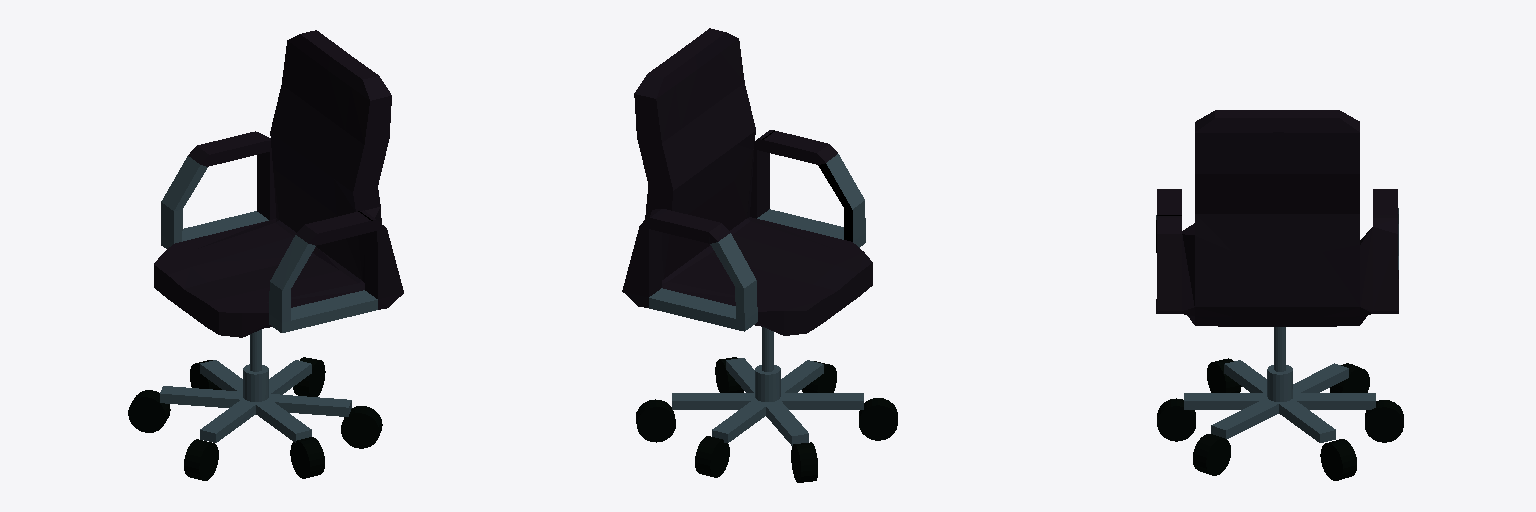
Rendered from Additive_Chair_Mesh_1.obj.
The picture shows the model from 3 angles: view 1: azimuth 30°, elevation 25°; view 2: azimuth 150°, elevation 25°; view 3: azimuth 270°, elevation 25°; orthographic projection.
Visible parts, largest first — view 1: pCylinder8 polySurface8, polySurface15, pCylinder8 polySurface4, pCylinder8 polySurface1, polySurface3 pCylinder8, pCylinder8 polySurface7, pCylinder8 polySurface5; view 2: pCylinder8 polySurface8, polySurface15, pCylinder8 polySurface5, polySurface3 pCylinder8, pCylinder8 polySurface6, pCylinder8 polySurface1, pCylinder8 polySurface7, pCylinder8 polySurface4; view 3: pCylinder8 polySurface8, polySurface15, pCylinder8 polySurface6, pCylinder8 polySurface7, pCylinder8 polySurface4, pCylinder8 polySurface5, polySurface3 pCylinder8, pCylinder8 polySurface1.
Boxes of the visible parts, x1=… form: pCylinder8 polySurface8: x1=154, y1=30, x2=403, y2=337; polySurface15: x1=160, y1=329, x2=351, y2=442; pCylinder8 polySurface4: x1=341, y1=406, x2=382, y2=448; pCylinder8 polySurface1: x1=128, y1=390, x2=170, y2=432; polySurface3 pCylinder8: x1=184, y1=439, x2=218, y2=480; pCylinder8 polySurface7: x1=290, y1=437, x2=324, y2=478; pCylinder8 polySurface5: x1=293, y1=357, x2=325, y2=396; pCylinder8 polySurface8: x1=622, y1=28, x2=872, y2=335; polySurface15: x1=672, y1=327, x2=863, y2=445; pCylinder8 polySurface5: x1=636, y1=399, x2=675, y2=442; polySurface3 pCylinder8: x1=859, y1=398, x2=897, y2=440; pCylinder8 polySurface6: x1=695, y1=436, x2=729, y2=477; pCylinder8 polySurface1: x1=791, y1=442, x2=817, y2=482; pCylinder8 polySurface7: x1=802, y1=361, x2=836, y2=392; pCylinder8 polySurface4: x1=715, y1=357, x2=743, y2=392; pCylinder8 polySurface8: x1=1156, y1=110, x2=1398, y2=326; polySurface15: x1=1184, y1=327, x2=1375, y2=442; pCylinder8 polySurface6: x1=1365, y1=400, x2=1403, y2=442; pCylinder8 polySurface7: x1=1157, y1=398, x2=1195, y2=441; pCylinder8 polySurface4: x1=1193, y1=434, x2=1230, y2=475; pCylinder8 polySurface5: x1=1320, y1=439, x2=1356, y2=480; polySurface3 pCylinder8: x1=1207, y1=358, x2=1241, y2=392; pCylinder8 polySurface1: x1=1330, y1=363, x2=1369, y2=392.
Size of the model in its own units: 6.21 by 10.69 by 6.61.